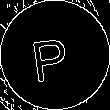P_N: (33, 27, 77, 83)
